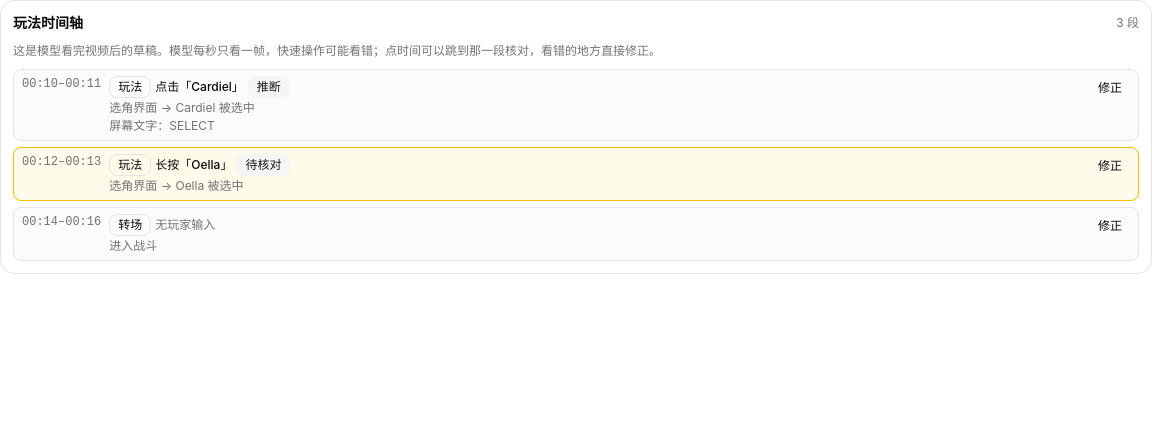
Test: gameplay timeline › records a correction with the segment range prefilled and editable
Click the button with aria-label "修正 00:12 这一段": (1110,166) [1090, 154, 1130, 178]
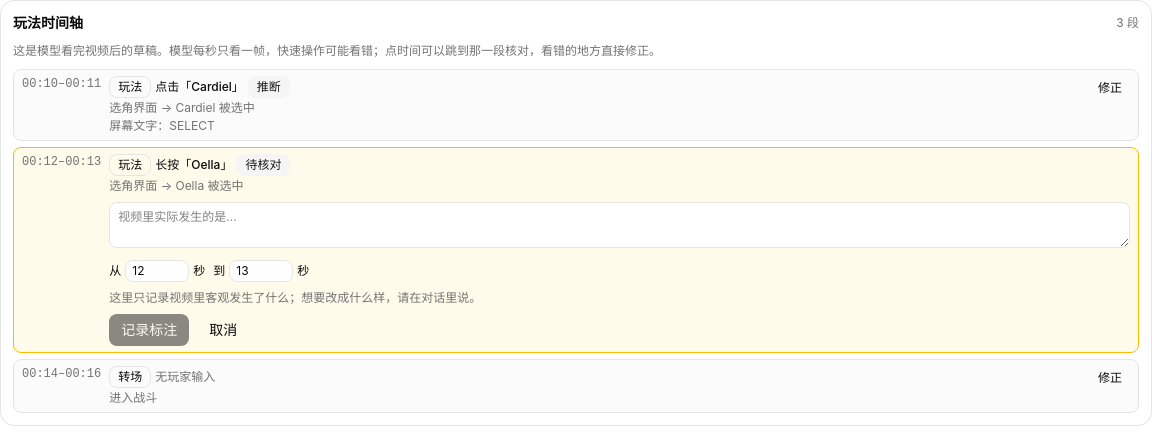
Result: the number field named "开始秒数" holds "12" at [125, 260, 189, 282]
Result: the button "记录标注" is disabled at [109, 314, 189, 346]
In the text box labelled "视频里实际发生的是": (620,225) [109, 202, 1130, 248], type "这是点击，不是长按"
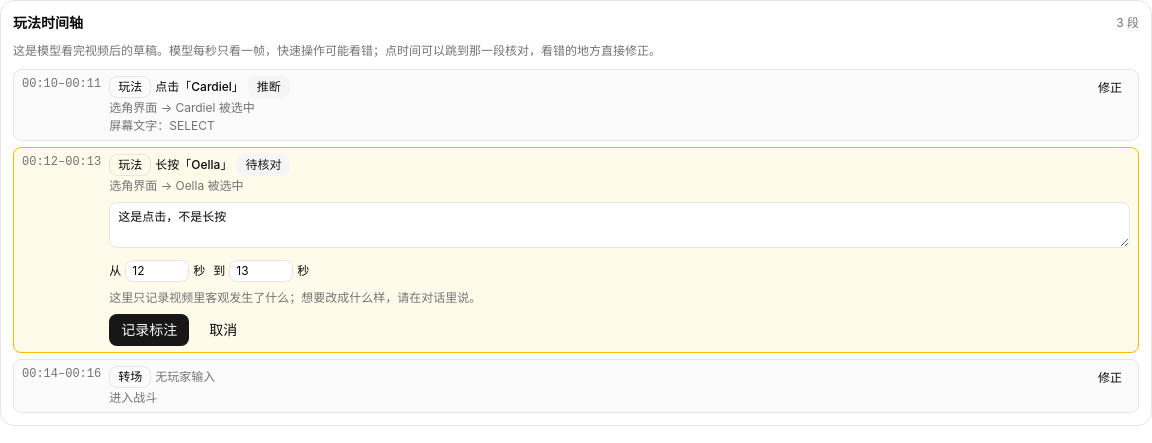
Replace the text in the number field named "结束秒数" with "12.5": (261,271) [229, 260, 293, 282]
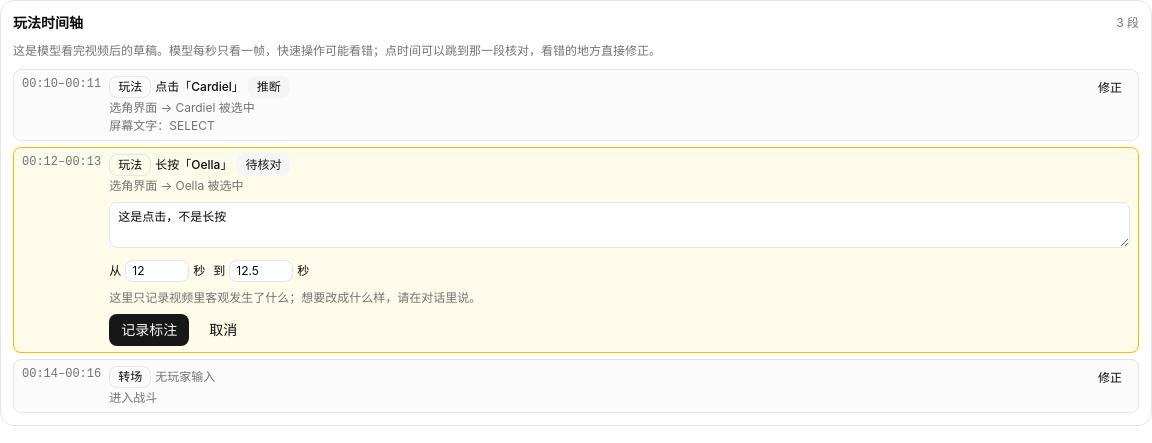
Click the button "记录标注": (149,330) [109, 314, 189, 346]
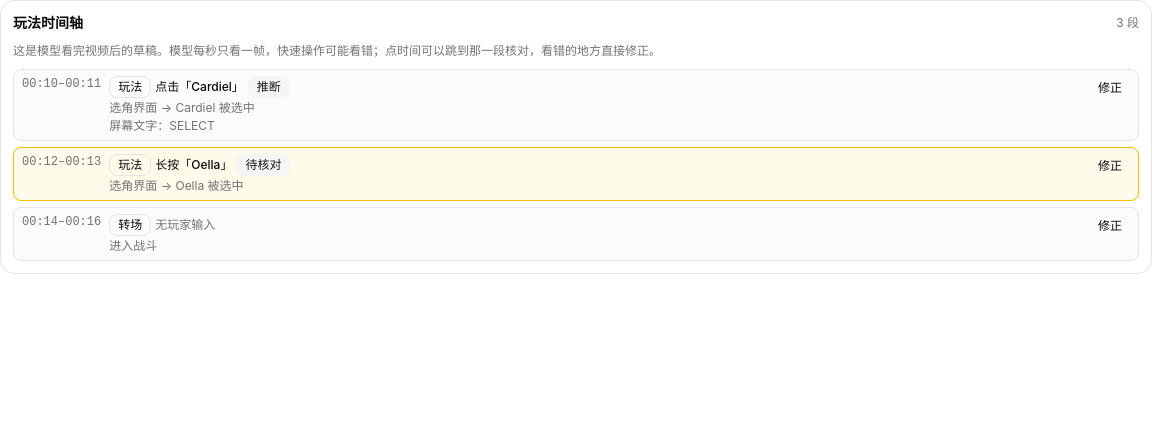
Result: the form is gone
